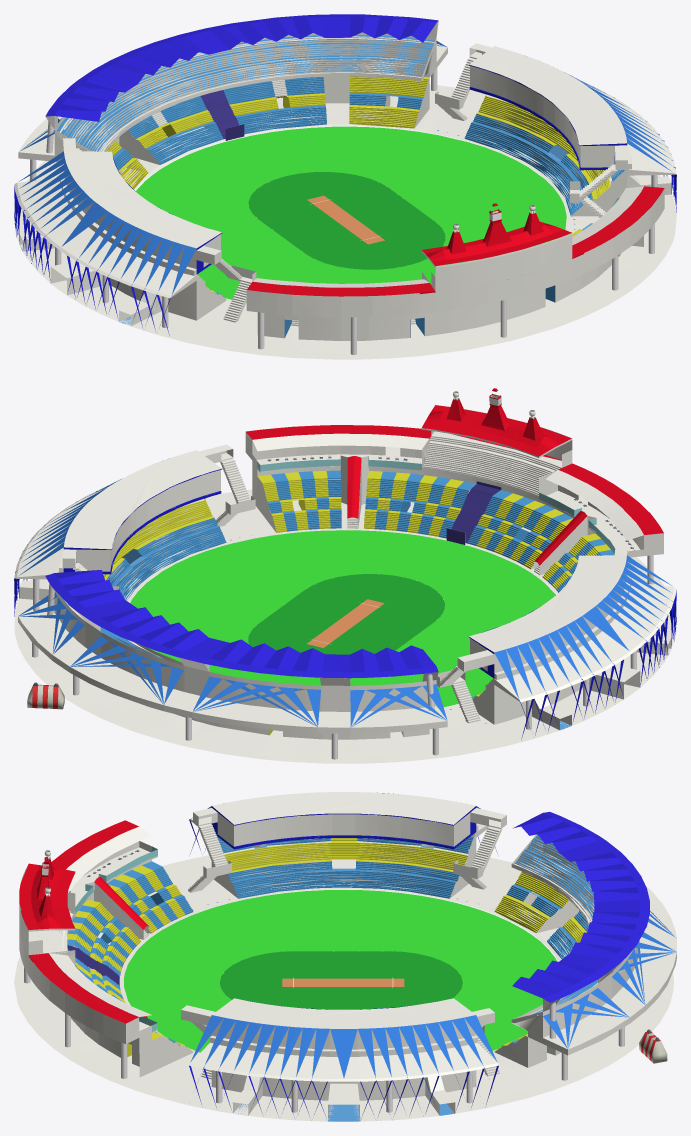
Rendered from stadium.glb.
3 renders of one model, top to bottom at view 1: azimuth 30°, elevation 25°; view 2: azimuth 150°, elevation 25°; view 3: azimuth 270°, elevation 25°, orthographic.
Parts seen in each view (by area): view 1: stadium; view 2: stadium; view 3: stadium.
Boxes of the visible parts, bbox=[...] form: stadium: bbox=[14, 14, 676, 359]; stadium: bbox=[14, 388, 676, 763]; stadium: bbox=[14, 792, 676, 1121].
Size of the model in its own units: 390 by 83.46 by 392.
2 materials, 2 textured.
